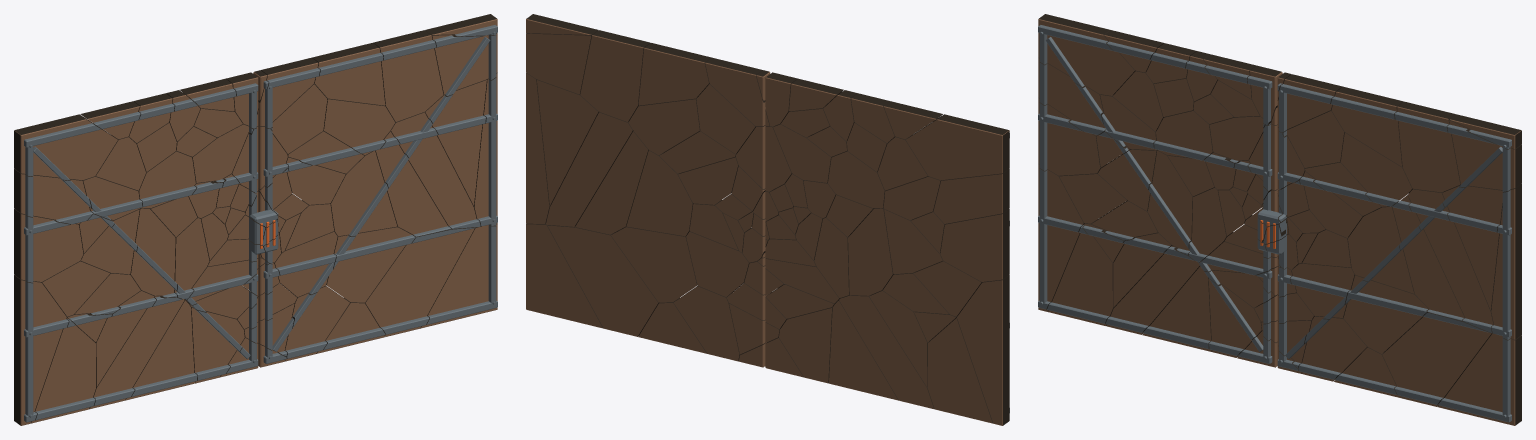
The model's file is SM_DoorCracked_03.fbx.
3 renders of one model, left to right at view 1: azimuth 30°, elevation 25°; view 2: azimuth 150°, elevation 25°; view 3: azimuth 330°, elevation 25°, orthographic.
Parts seen in each view (by area): view 1: SM_DoorCracked_03; view 2: SM_DoorCracked_03; view 3: SM_DoorCracked_03.
Boxes of the visible parts, x1,y1,x2,y2 form: SM_DoorCracked_03: (14, 14, 497, 425); SM_DoorCracked_03: (526, 14, 1009, 425); SM_DoorCracked_03: (1038, 14, 1521, 425).
Size of the model in its own units: 599 by 35 by 349.
